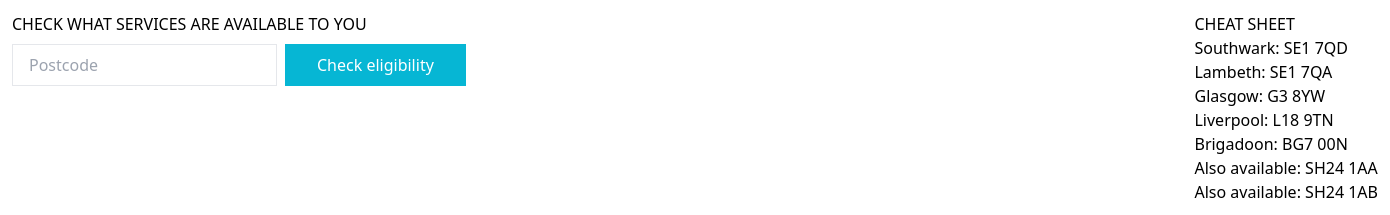
Test: ServiceChecker › finds service available › Submits SE1 7QD
expect the text "Check what services are available to you" is shown: met, box [12,13,367,35]
Step 1. Type "SE1 7QD" into the field labelled "Postcode" → (144, 65), box [12,44,277,86]
Then press Enter
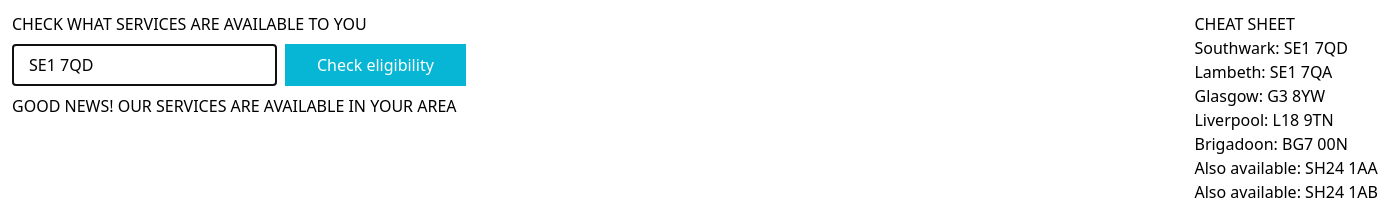
expect the text "Good news! our services are available in your area" is shown: met, box [12,94,466,118]
